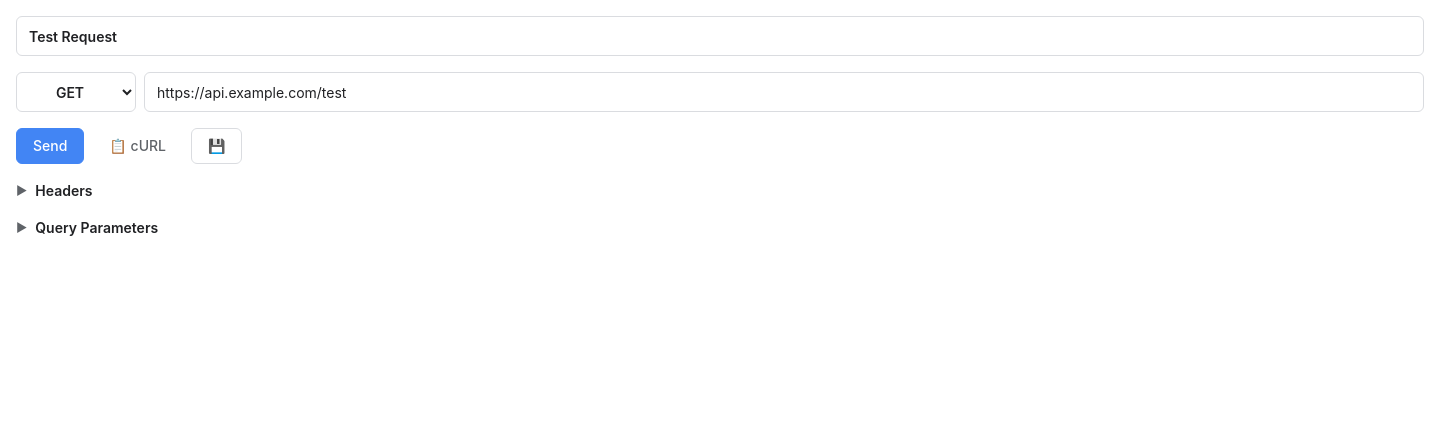
Test: Query Parameters Feature › should allow adding and managing query parameters
Note: Click to expand query parameters section
What coordinates should you click on to do the following:
click the heading "▶ Query Parameters"
I would click on:
 (87, 228)
Its box is x1=16 y1=219 x2=158 y2=236.
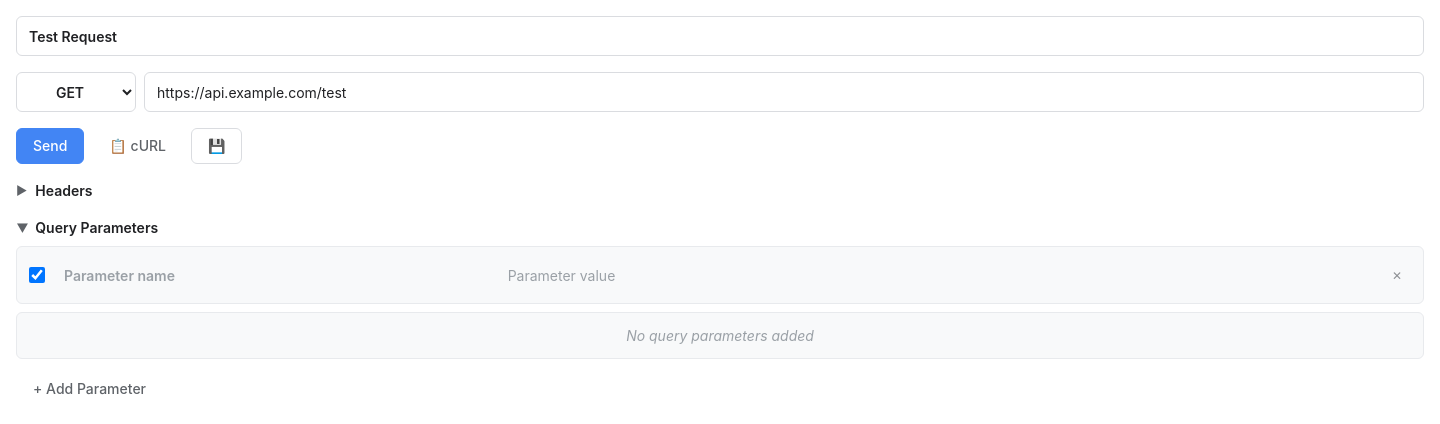
Now the button "+ Add Parameter" is shown, box x1=16 y1=371 x2=163 y2=407
Now the field with placeholder "Parameter name" is shown, box x1=60 y1=255 x2=492 y2=295
Now the field with placeholder "Parameter value" is shown, box x1=504 y1=255 x2=1367 y2=295
